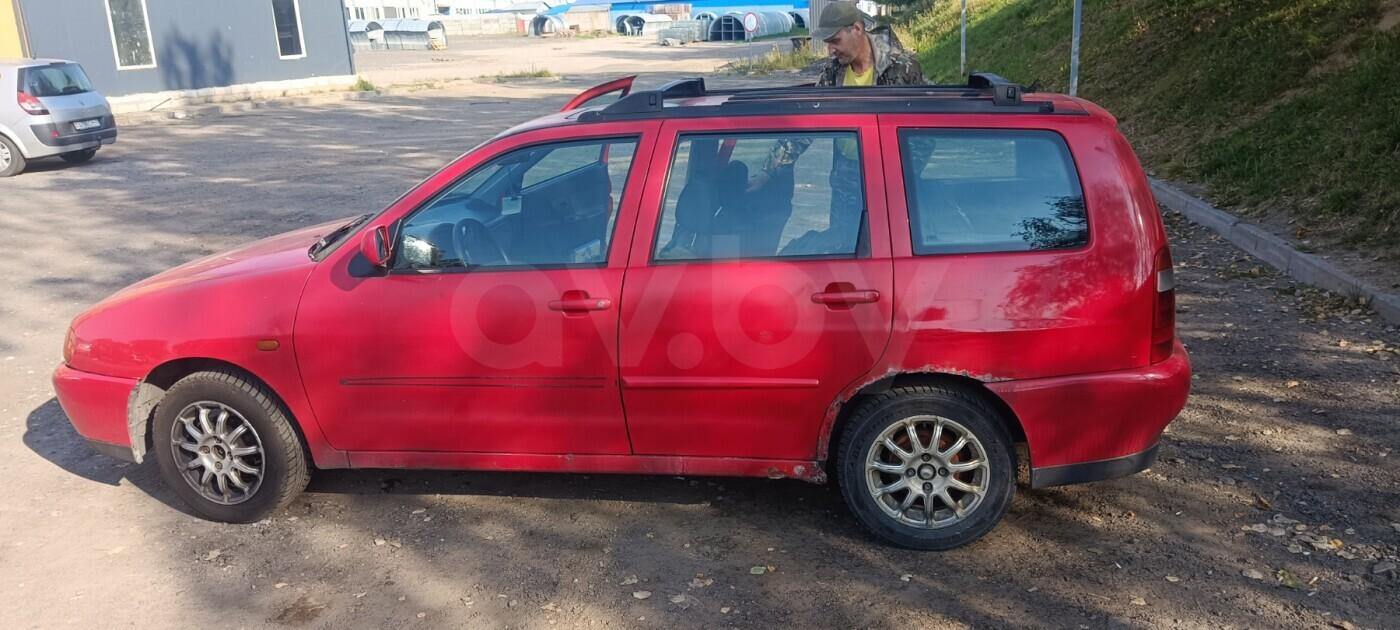Polo_1994-2002: (56, 67, 1198, 531)
